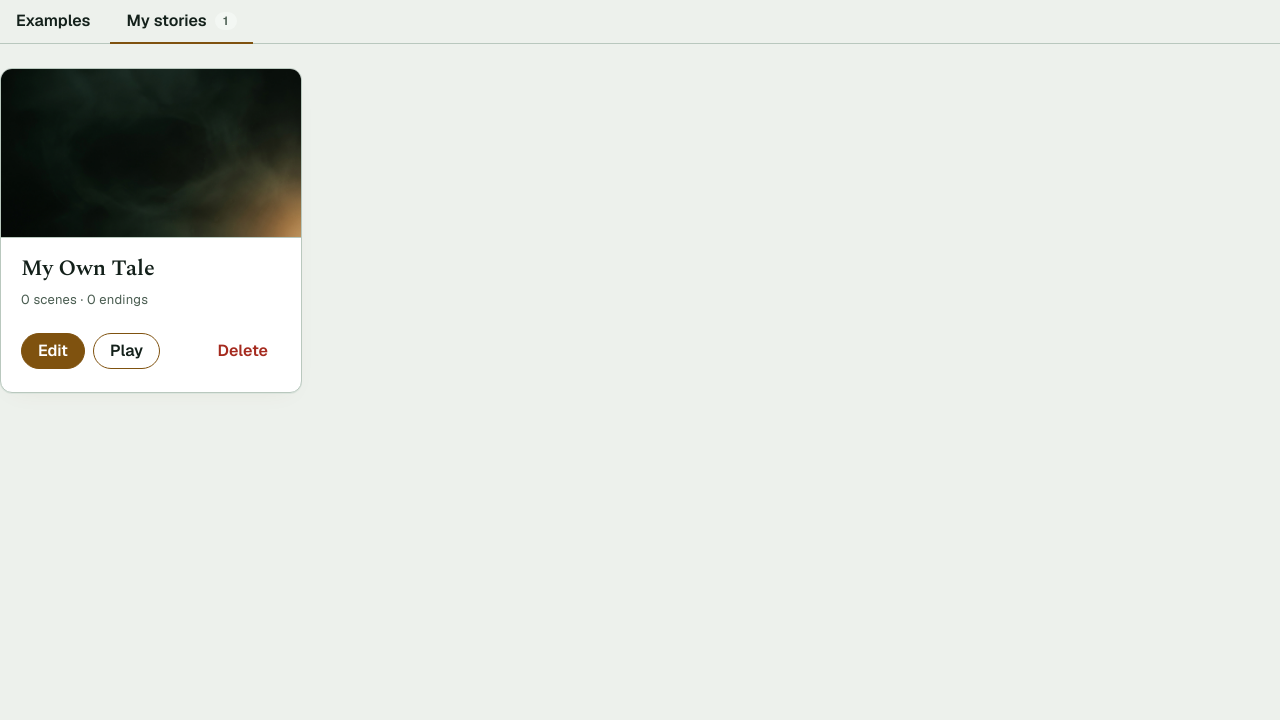
it: LibraryTabs › deletes a story after confirmation and announces it only to screen readers
Click the button with aria-label "Delete My Own Tale" at point(243, 351), box [204, 330, 281, 372]
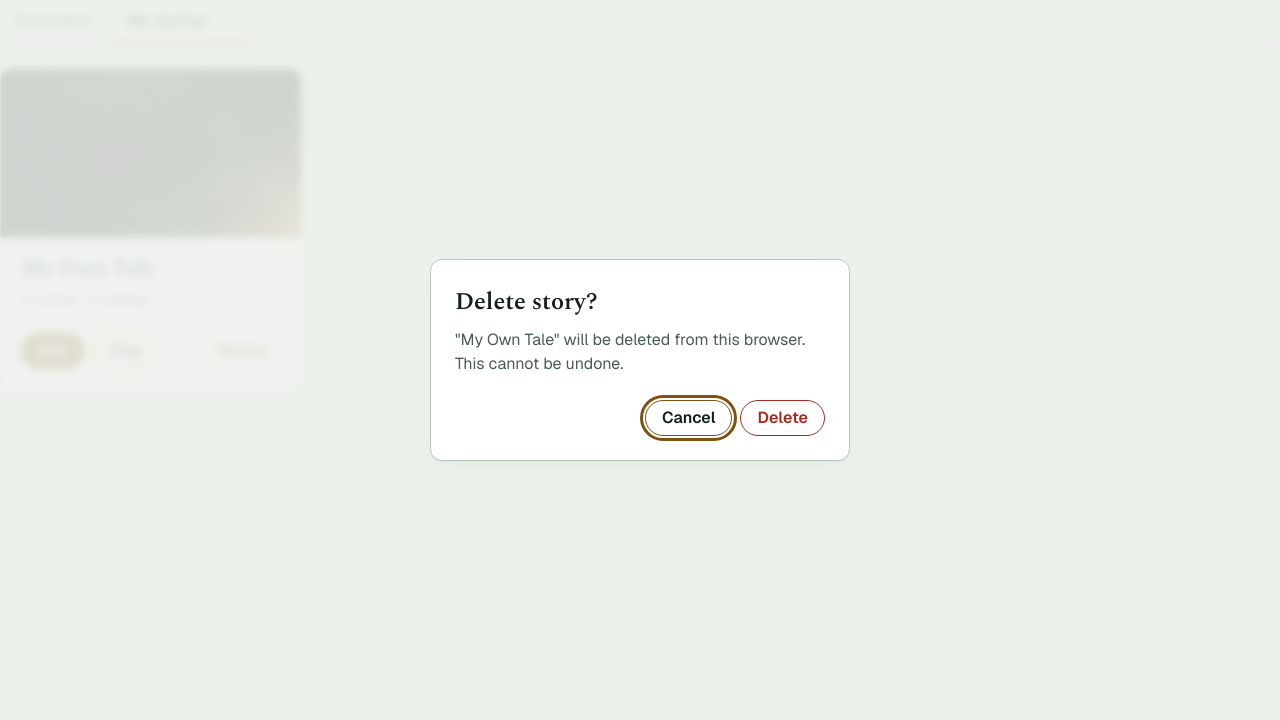
Click the button "Delete" at point(783, 418), box [740, 400, 825, 436]
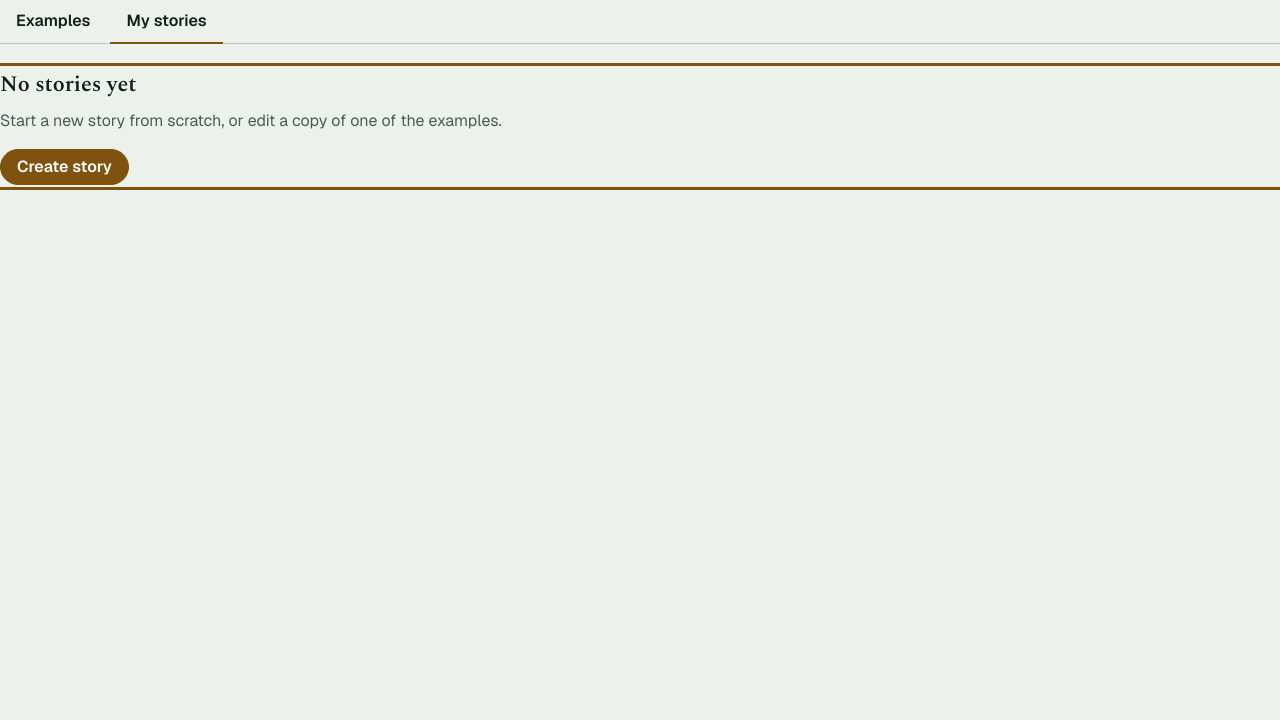
Check: the tab "My stories" is shown, box [110, 0, 223, 44]
Check: the dialog is gone
Check: the text "No stories yet" is shown, box [0, 68, 136, 101]
